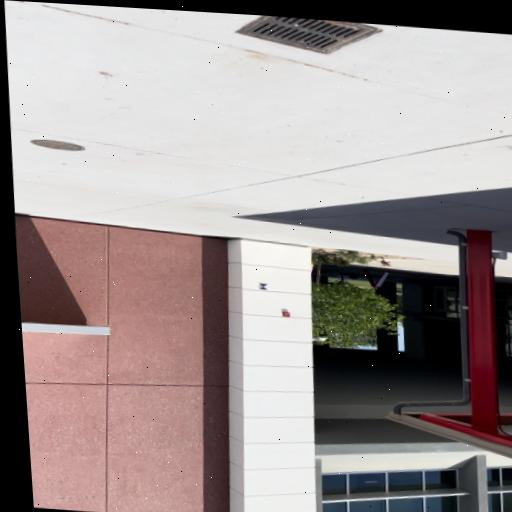target6: (258, 283, 268, 291)
